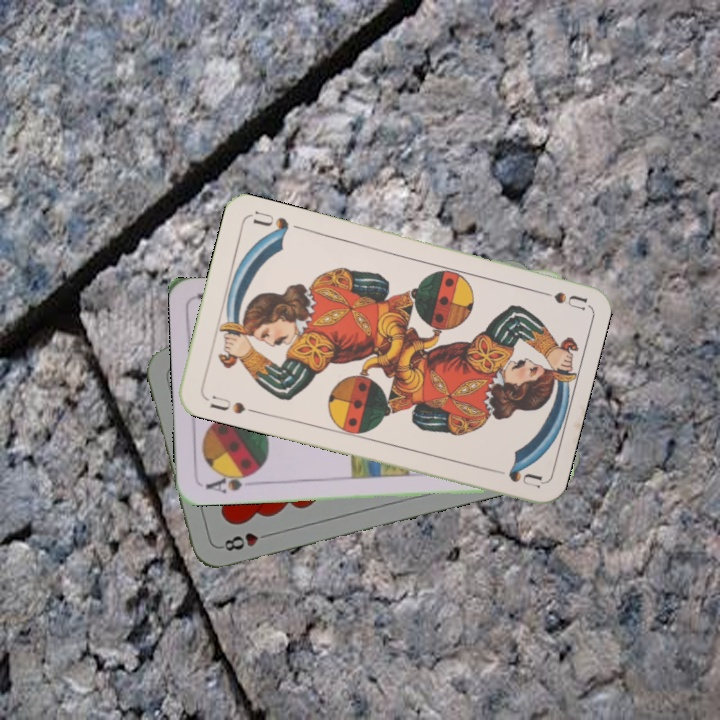H8: (216, 528, 274, 554)
SA: (201, 468, 258, 496)
SU: (529, 285, 588, 313), (206, 391, 259, 417)
